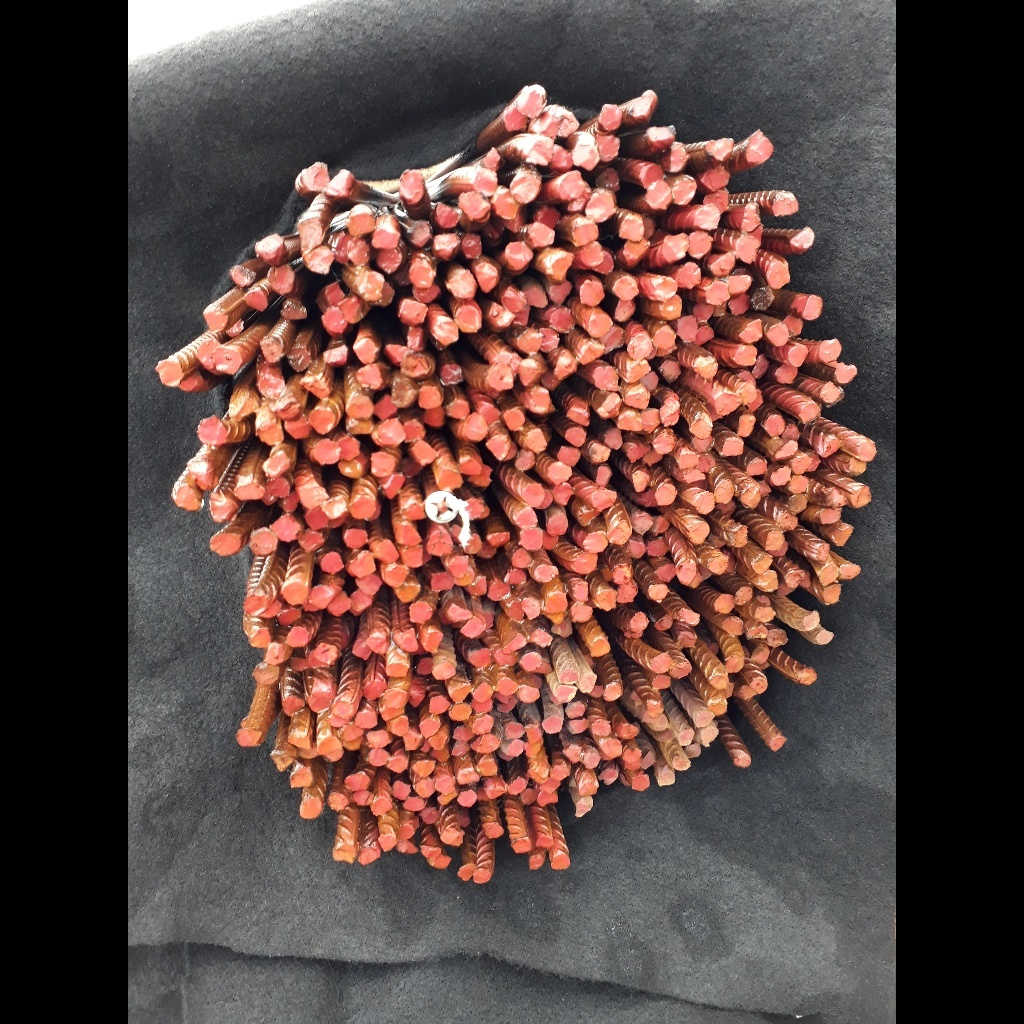dipstick: (530, 108, 565, 136), (459, 192, 491, 220), (506, 286, 528, 326), (748, 130, 774, 163), (512, 173, 539, 203), (268, 265, 295, 295), (400, 170, 423, 205), (492, 186, 517, 218), (257, 235, 283, 265), (197, 418, 228, 443), (374, 420, 405, 445), (574, 135, 597, 168), (302, 162, 328, 191), (249, 528, 278, 554), (299, 217, 323, 248), (664, 233, 688, 264), (527, 138, 554, 165), (263, 451, 291, 477), (592, 365, 620, 391), (190, 459, 212, 492), (520, 86, 545, 115), (406, 219, 431, 248), (434, 235, 461, 261), (349, 552, 376, 578), (588, 193, 613, 221), (305, 249, 333, 274), (456, 304, 481, 332), (672, 176, 696, 205), (301, 372, 330, 396), (314, 438, 340, 464), (273, 515, 299, 541), (434, 203, 461, 228), (505, 243, 532, 268), (675, 263, 702, 288), (450, 273, 476, 298), (773, 192, 799, 217), (214, 349, 240, 374), (327, 169, 351, 196), (574, 218, 598, 245), (356, 365, 383, 389), (210, 532, 238, 555), (635, 90, 657, 119), (156, 360, 181, 385), (174, 485, 199, 510), (689, 232, 713, 258), (258, 374, 284, 398), (519, 359, 543, 385), (212, 495, 236, 521), (428, 530, 452, 556), (648, 182, 671, 209), (359, 273, 382, 300), (409, 261, 432, 288), (714, 392, 741, 415), (329, 233, 349, 264), (550, 253, 572, 281), (701, 168, 730, 189), (400, 546, 429, 567), (669, 142, 689, 172), (620, 215, 644, 240), (474, 170, 497, 196), (400, 299, 426, 322), (230, 265, 256, 288), (347, 213, 374, 235), (737, 236, 759, 263), (598, 392, 620, 419), (648, 126, 676, 147), (477, 264, 497, 293), (559, 173, 583, 197), (311, 409, 335, 433), (599, 106, 622, 131), (596, 168, 621, 191), (581, 281, 604, 306), (518, 330, 541, 355), (371, 453, 396, 476), (412, 443, 437, 466), (395, 627, 418, 652), (529, 223, 555, 245), (401, 358, 431, 377), (706, 138, 733, 159), (624, 386, 651, 407), (767, 262, 790, 286), (739, 320, 763, 343), (435, 320, 458, 344), (524, 429, 547, 453), (197, 340, 216, 369), (228, 398, 257, 417), (261, 337, 283, 362), (522, 483, 544, 508), (382, 565, 407, 587), (395, 525, 422, 545), (473, 734, 500, 754), (350, 496, 373, 519), (696, 205, 718, 229), (707, 281, 729, 305), (614, 278, 638, 300), (322, 309, 346, 331), (355, 339, 377, 363), (348, 397, 372, 419), (374, 395, 396, 419), (449, 679, 471, 703), (258, 423, 283, 444), (393, 379, 414, 404), (265, 478, 290, 499), (299, 529, 324, 550), (373, 229, 399, 249), (581, 241, 601, 267), (488, 367, 514, 387), (437, 470, 463, 490), (467, 415, 487, 441), (350, 238, 369, 265), (702, 191, 729, 210), (273, 399, 300, 418), (379, 250, 401, 273), (792, 227, 814, 250), (628, 338, 651, 360), (526, 285, 548, 308), (288, 348, 311, 370), (609, 521, 631, 544), (519, 528, 542, 550), (515, 506, 538, 528), (376, 541, 399, 563), (660, 296, 681, 320), (819, 339, 840, 363), (587, 314, 611, 335), (490, 305, 511, 329), (342, 296, 360, 324), (285, 418, 309, 439), (627, 361, 651, 382), (547, 463, 571, 484), (311, 585, 332, 609), (624, 241, 649, 261), (529, 388, 549, 413), (254, 664, 279, 684), (578, 345, 605, 363), (625, 444, 652, 462), (654, 278, 676, 300), (246, 290, 268, 312), (329, 593, 351, 615), (640, 163, 663, 184), (711, 252, 734, 273), (205, 308, 226, 331), (321, 552, 344, 573), (284, 582, 307, 603), (574, 553, 597, 574), (599, 137, 619, 161), (323, 346, 347, 366), (235, 482, 265, 498), (618, 411, 642, 431), (308, 691, 332, 711), (385, 474, 404, 499), (566, 407, 591, 426), (592, 490, 617, 509), (345, 771, 370, 790), (804, 296, 822, 322), (280, 300, 306, 318), (583, 533, 609, 551), (729, 294, 750, 316), (695, 357, 717, 378), (653, 326, 674, 348), (552, 309, 573, 331), (305, 509, 327, 530), (690, 417, 711, 439), (632, 511, 653, 533), (688, 521, 709, 543), (504, 632, 526, 653), (560, 112, 580, 135), (488, 438, 508, 461), (505, 409, 525, 432), (764, 414, 784, 437), (721, 435, 744, 455), (462, 235, 481, 259), (678, 316, 697, 340), (362, 680, 386, 699), (366, 730, 390, 749), (554, 145, 572, 170), (740, 204, 758, 229), (301, 488, 326, 506), (641, 408, 659, 433), (355, 576, 380, 594), (505, 110, 526, 131), (419, 386, 440, 407), (660, 361, 681, 382), (596, 588, 617, 609), (462, 499, 483, 520), (768, 324, 788, 346), (551, 282, 571, 304), (440, 364, 462, 384), (340, 438, 360, 460), (564, 427, 586, 447), (834, 525, 854, 547), (410, 602, 432, 622), (369, 748, 391, 768), (537, 208, 560, 227), (784, 315, 803, 338), (558, 447, 581, 466), (402, 502, 425, 521), (468, 648, 491, 667), (344, 529, 368, 547), (236, 729, 260, 747), (819, 435, 839, 456), (351, 592, 371, 613), (301, 798, 321, 819), (328, 791, 349, 811), (754, 287, 773, 309), (729, 274, 751, 293), (604, 428, 623, 450), (714, 481, 733, 503), (338, 460, 361, 478), (487, 583, 510, 601), (384, 690, 407, 708), (448, 605, 472, 622), (694, 302, 714, 322), (404, 420, 424, 440), (515, 451, 535, 471), (548, 514, 568, 534), (250, 628, 270, 648), (724, 617, 744, 637), (735, 345, 756, 364), (851, 487, 872, 506), (819, 563, 838, 584), (447, 556, 468, 575), (244, 596, 265, 615), (265, 644, 284, 665), (283, 696, 304, 715), (326, 284, 344, 306), (541, 329, 559, 351), (776, 441, 798, 459), (534, 564, 556, 582), (461, 619, 483, 637), (324, 499, 347, 516), (397, 584, 420, 601), (431, 572, 454, 589), (448, 704, 471, 721), (529, 630, 552, 647), (544, 594, 567, 611), (180, 377, 204, 393), (407, 326, 423, 350), (662, 402, 678, 426), (788, 346, 807, 366), (653, 434, 673, 453), (857, 441, 877, 460), (788, 493, 807, 513), (753, 554, 773, 573), (656, 485, 676, 504), (554, 484, 573, 504), (429, 696, 449, 715), (602, 738, 621, 758), (616, 302, 634, 323), (656, 563, 677, 581), (291, 769, 312, 787), (590, 639, 611, 657), (742, 485, 759, 507), (678, 561, 695, 583), (647, 538, 669, 555), (355, 711, 377, 728), (421, 718, 440, 737), (474, 683, 493, 702), (652, 654, 671, 673), (715, 594, 734, 613), (821, 382, 839, 402), (800, 403, 820, 421), (414, 287, 438, 302), (387, 342, 407, 360), (448, 400, 468, 418), (474, 466, 492, 486), (738, 382, 756, 402), (802, 610, 820, 630), (696, 493, 714, 513), (287, 628, 307, 646), (512, 551, 532, 569), (493, 651, 517, 666), (485, 148, 502, 169), (793, 453, 810, 474), (434, 661, 455, 678), (523, 599, 540, 620), (413, 760, 434, 777), (333, 846, 354, 863), (576, 797, 593, 818), (835, 366, 857, 382), (840, 562, 862, 578), (387, 757, 409, 773), (441, 830, 463, 846), (346, 420, 373, 433), (678, 450, 696, 469), (772, 467, 791, 485), (761, 572, 779, 591), (627, 538, 645, 557), (618, 584, 636, 603), (318, 644, 336, 663), (273, 751, 291, 770), (415, 778, 434, 796), (630, 613, 649, 631), (697, 327, 714, 347), (604, 329, 624, 346), (333, 702, 353, 719), (520, 653, 540, 670), (552, 620, 572, 637), (423, 409, 444, 425), (731, 526, 747, 547), (426, 632, 442, 653), (470, 576, 486, 597), (381, 707, 405, 721), (360, 848, 381, 864), (483, 823, 504, 839), (697, 452, 715, 470), (529, 766, 547, 784), (556, 358, 573, 377), (282, 494, 299, 513), (483, 405, 500, 424), (813, 542, 830, 561), (824, 585, 841, 604), (708, 556, 727, 573), (573, 605, 592, 622), (560, 668, 579, 685), (551, 853, 570, 870), (592, 720, 611, 737), (707, 696, 726, 713), (604, 682, 621, 701), (456, 769, 479, 783), (777, 366, 797, 382), (461, 459, 481, 475), (591, 444, 611, 460), (632, 472, 648, 492), (648, 584, 668, 600), (557, 686, 577, 702), (520, 686, 540, 702), (474, 716, 494, 732), (754, 355, 769, 376), (692, 437, 713, 452), (488, 531, 509, 546), (508, 601, 523, 622), (278, 610, 300, 624), (505, 570, 527, 584), (386, 663, 408, 677), (318, 738, 340, 752), (352, 791, 374, 805), (791, 475, 808, 493), (391, 717, 408, 735), (632, 774, 649, 792), (769, 629, 787, 646), (739, 417, 755, 436), (778, 514, 797, 530), (355, 640, 371, 659), (498, 677, 517, 693), (567, 702, 586, 718), (372, 799, 391, 815), (421, 808, 440, 824), (677, 630, 696, 646), (672, 662, 691, 678), (747, 460, 767, 475), (820, 508, 840, 523), (596, 466, 611, 486), (573, 580, 588, 600), (290, 733, 310, 748), (505, 723, 525, 738), (600, 252, 613, 275), (578, 511, 599, 525), (403, 732, 420, 749), (653, 516, 669, 534), (465, 535, 481, 553), (580, 674, 596, 692), (393, 782, 411, 798), (436, 778, 454, 794), (459, 789, 475, 807), (479, 761, 497, 777), (513, 837, 531, 853), (579, 780, 597, 796), (702, 728, 718, 746), (646, 699, 664, 715), (368, 636, 387, 651), (567, 720, 587, 734), (549, 765, 569, 779), (694, 713, 714, 727), (342, 727, 363, 740), (642, 373, 658, 390), (613, 565, 629, 582), (416, 658, 432, 675), (544, 717, 561, 733), (565, 745, 581, 762), (752, 647, 769, 663), (500, 353, 518, 368), (766, 531, 781, 549), (265, 600, 280, 618), (396, 824, 414, 839), (736, 587, 751, 605), (815, 630, 834, 644), (405, 798, 424, 812), (538, 793, 557, 807), (647, 716, 666, 730), (747, 625, 766, 639), (498, 699, 518, 712), (454, 727, 474, 740), (651, 675, 671, 688), (786, 570, 802, 586), (507, 739, 523, 755), (659, 771, 675, 787), (801, 668, 817, 684), (478, 543, 495, 558), (526, 725, 541, 742), (430, 733, 447, 748), (585, 752, 600, 769), (600, 769, 617, 784), (711, 674, 728, 689), (727, 655, 742, 672), (808, 449, 819, 472), (452, 742, 470, 756), (381, 833, 395, 851), (396, 841, 417, 853), (488, 785, 506, 799), (756, 608, 774, 622), (849, 459, 865, 474), (344, 740, 364, 752), (421, 846, 441, 858), (459, 863, 474, 879), (474, 868, 490, 883), (509, 778, 525, 793), (685, 743, 700, 759), (657, 614, 672, 630), (752, 678, 767, 694), (680, 728, 694, 745), (432, 749, 450, 762), (540, 781, 561, 792), (536, 836, 555, 848), (769, 736, 784, 751), (833, 492, 847, 508), (645, 451, 662, 464), (522, 789, 535, 806), (656, 730, 673, 743), (683, 471, 705, 481), (455, 575, 473, 587), (673, 758, 691, 770), (543, 534, 557, 549), (410, 692, 424, 707), (623, 724, 638, 738), (438, 793, 457, 804), (525, 744, 541, 757), (624, 747, 640, 760), (682, 611, 698, 624), (642, 751, 654, 768), (735, 754, 750, 767), (759, 479, 771, 495), (483, 614, 494, 631), (434, 857, 452, 867), (529, 856, 544, 868), (300, 747, 316, 758), (323, 752, 342, 761), (741, 685, 754, 698), (775, 543, 789, 555), (626, 762, 640, 770)
